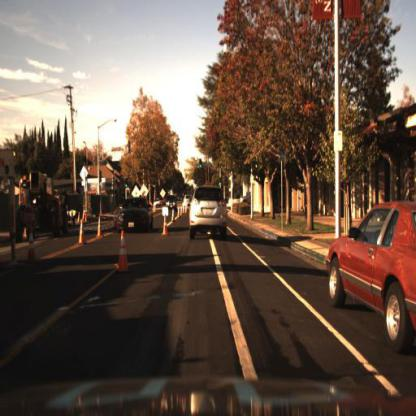car: (326, 200, 416, 359), (188, 184, 228, 241), (117, 197, 153, 241), (164, 196, 180, 217), (181, 193, 195, 211)
trafficLight: (123, 184, 129, 198)
trafficLight-Green: (217, 177, 225, 192), (199, 158, 204, 175)
truck: (11, 172, 68, 238)
